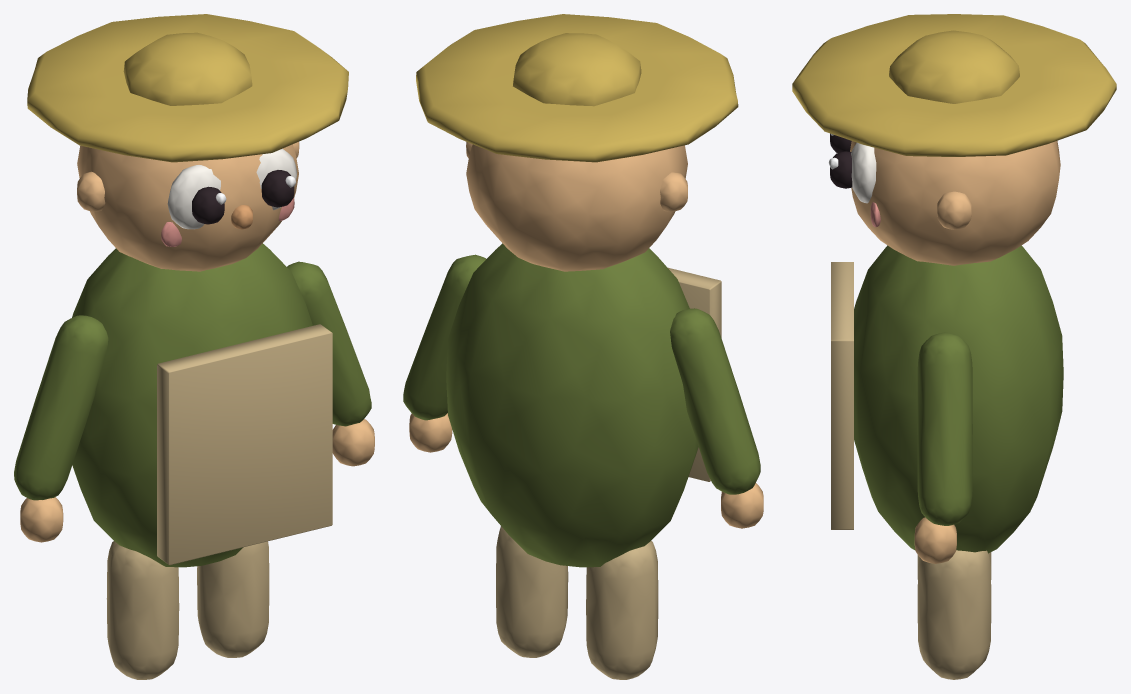
Rendered from npc_odd.glb.
3 renders of one model, left to right at view 1: azimuth 30°, elevation 25°; view 2: azimuth 150°, elevation 25°; view 3: azimuth 270°, elevation 25°, orthographic.
Visible parts, largest first — view 1: npc_odd_part_19, npc_odd_part_2, npc_odd_part_20, npc_odd_part_7, npc_odd_part_3, npc_odd_part_0, npc_odd_part_21, npc_odd_part_1, npc_odd_part_5, npc_odd_part_8, npc_odd_part_4, npc_odd_part_6 (+4 smaller); view 2: npc_odd_part_2, npc_odd_part_20, npc_odd_part_7, npc_odd_part_3, npc_odd_part_0, npc_odd_part_21, npc_odd_part_1, npc_odd_part_5, npc_odd_part_19, npc_odd_part_4, npc_odd_part_6, npc_odd_part_17; view 3: npc_odd_part_2, npc_odd_part_20, npc_odd_part_7, npc_odd_part_5, npc_odd_part_1, npc_odd_part_21, npc_odd_part_19, npc_odd_part_6, npc_odd_part_12, npc_odd_part_18, npc_odd_part_13.
Part boxes in pixels (bbox=[...]): npc_odd_part_19: bbox=[157, 324, 332, 564]; npc_odd_part_2: bbox=[72, 243, 312, 567]; npc_odd_part_20: bbox=[27, 14, 348, 162]; npc_odd_part_7: bbox=[77, 144, 298, 271]; npc_odd_part_3: bbox=[14, 315, 108, 500]; npc_odd_part_0: bbox=[106, 541, 179, 679]; npc_odd_part_21: bbox=[123, 32, 252, 105]; npc_odd_part_1: bbox=[197, 541, 269, 657]; npc_odd_part_5: bbox=[287, 261, 371, 426]; npc_odd_part_8: bbox=[167, 165, 220, 229]; npc_odd_part_4: bbox=[20, 497, 63, 542]; npc_odd_part_6: bbox=[332, 419, 374, 466]; npc_odd_part_2: bbox=[446, 243, 698, 567]; npc_odd_part_20: bbox=[416, 14, 738, 162]; npc_odd_part_7: bbox=[466, 144, 687, 271]; npc_odd_part_3: bbox=[670, 308, 760, 494]; npc_odd_part_0: bbox=[586, 541, 658, 679]; npc_odd_part_21: bbox=[513, 33, 641, 106]; npc_odd_part_1: bbox=[496, 526, 568, 657]; npc_odd_part_5: bbox=[403, 254, 485, 420]; npc_odd_part_19: bbox=[668, 267, 721, 481]; npc_odd_part_4: bbox=[721, 483, 763, 528]; npc_odd_part_6: bbox=[409, 413, 452, 452]; npc_odd_part_17: bbox=[660, 172, 687, 211]; npc_odd_part_2: bbox=[854, 245, 1063, 553]; npc_odd_part_20: bbox=[792, 14, 1116, 156]; npc_odd_part_7: bbox=[850, 141, 1060, 265]; npc_odd_part_5: bbox=[917, 332, 972, 525]; npc_odd_part_1: bbox=[917, 550, 991, 679]; npc_odd_part_21: bbox=[889, 30, 1019, 103]; npc_odd_part_19: bbox=[831, 262, 853, 529]; npc_odd_part_6: bbox=[914, 517, 956, 563]; npc_odd_part_12: bbox=[851, 142, 876, 203]; npc_odd_part_18: bbox=[937, 191, 971, 229]; npc_odd_part_13: bbox=[830, 151, 852, 188].
Size of the model in its own units: 0.8627 by 1.45 by 0.6947.
